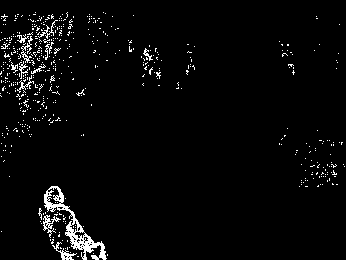person: (39, 184, 108, 260)
